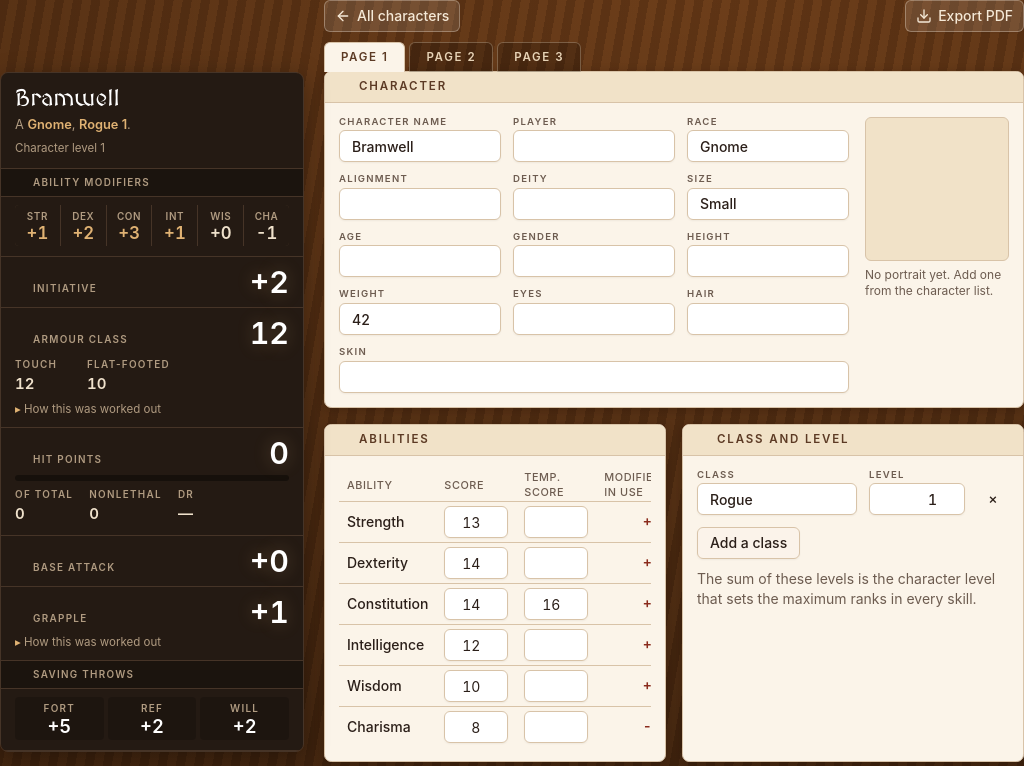
Test case: the derived rail › keeps every worked-out value on screen through a page change
Expected: the text named "Armour class" reads "12", [250,315,289,351]
Click the tab "Page 2".
click(451, 57)  # box [410,42,493,72]
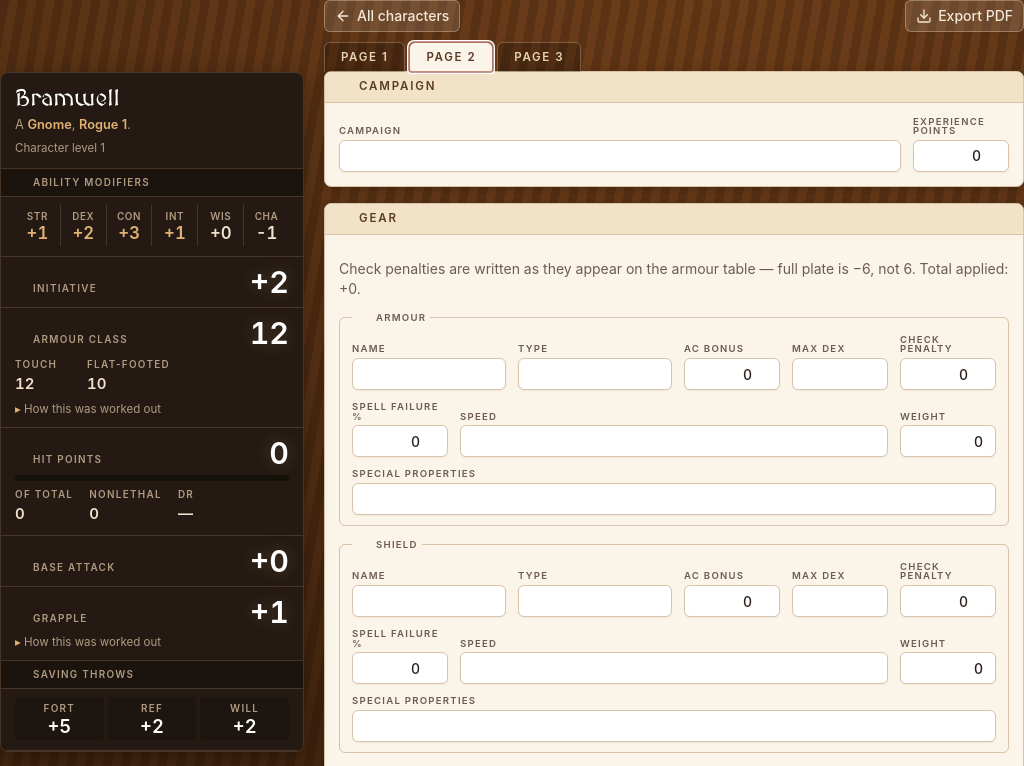
Expected: the text named "Armour class" reads "12", [250,315,289,351]
Now the text labelled "Character name" is gone
